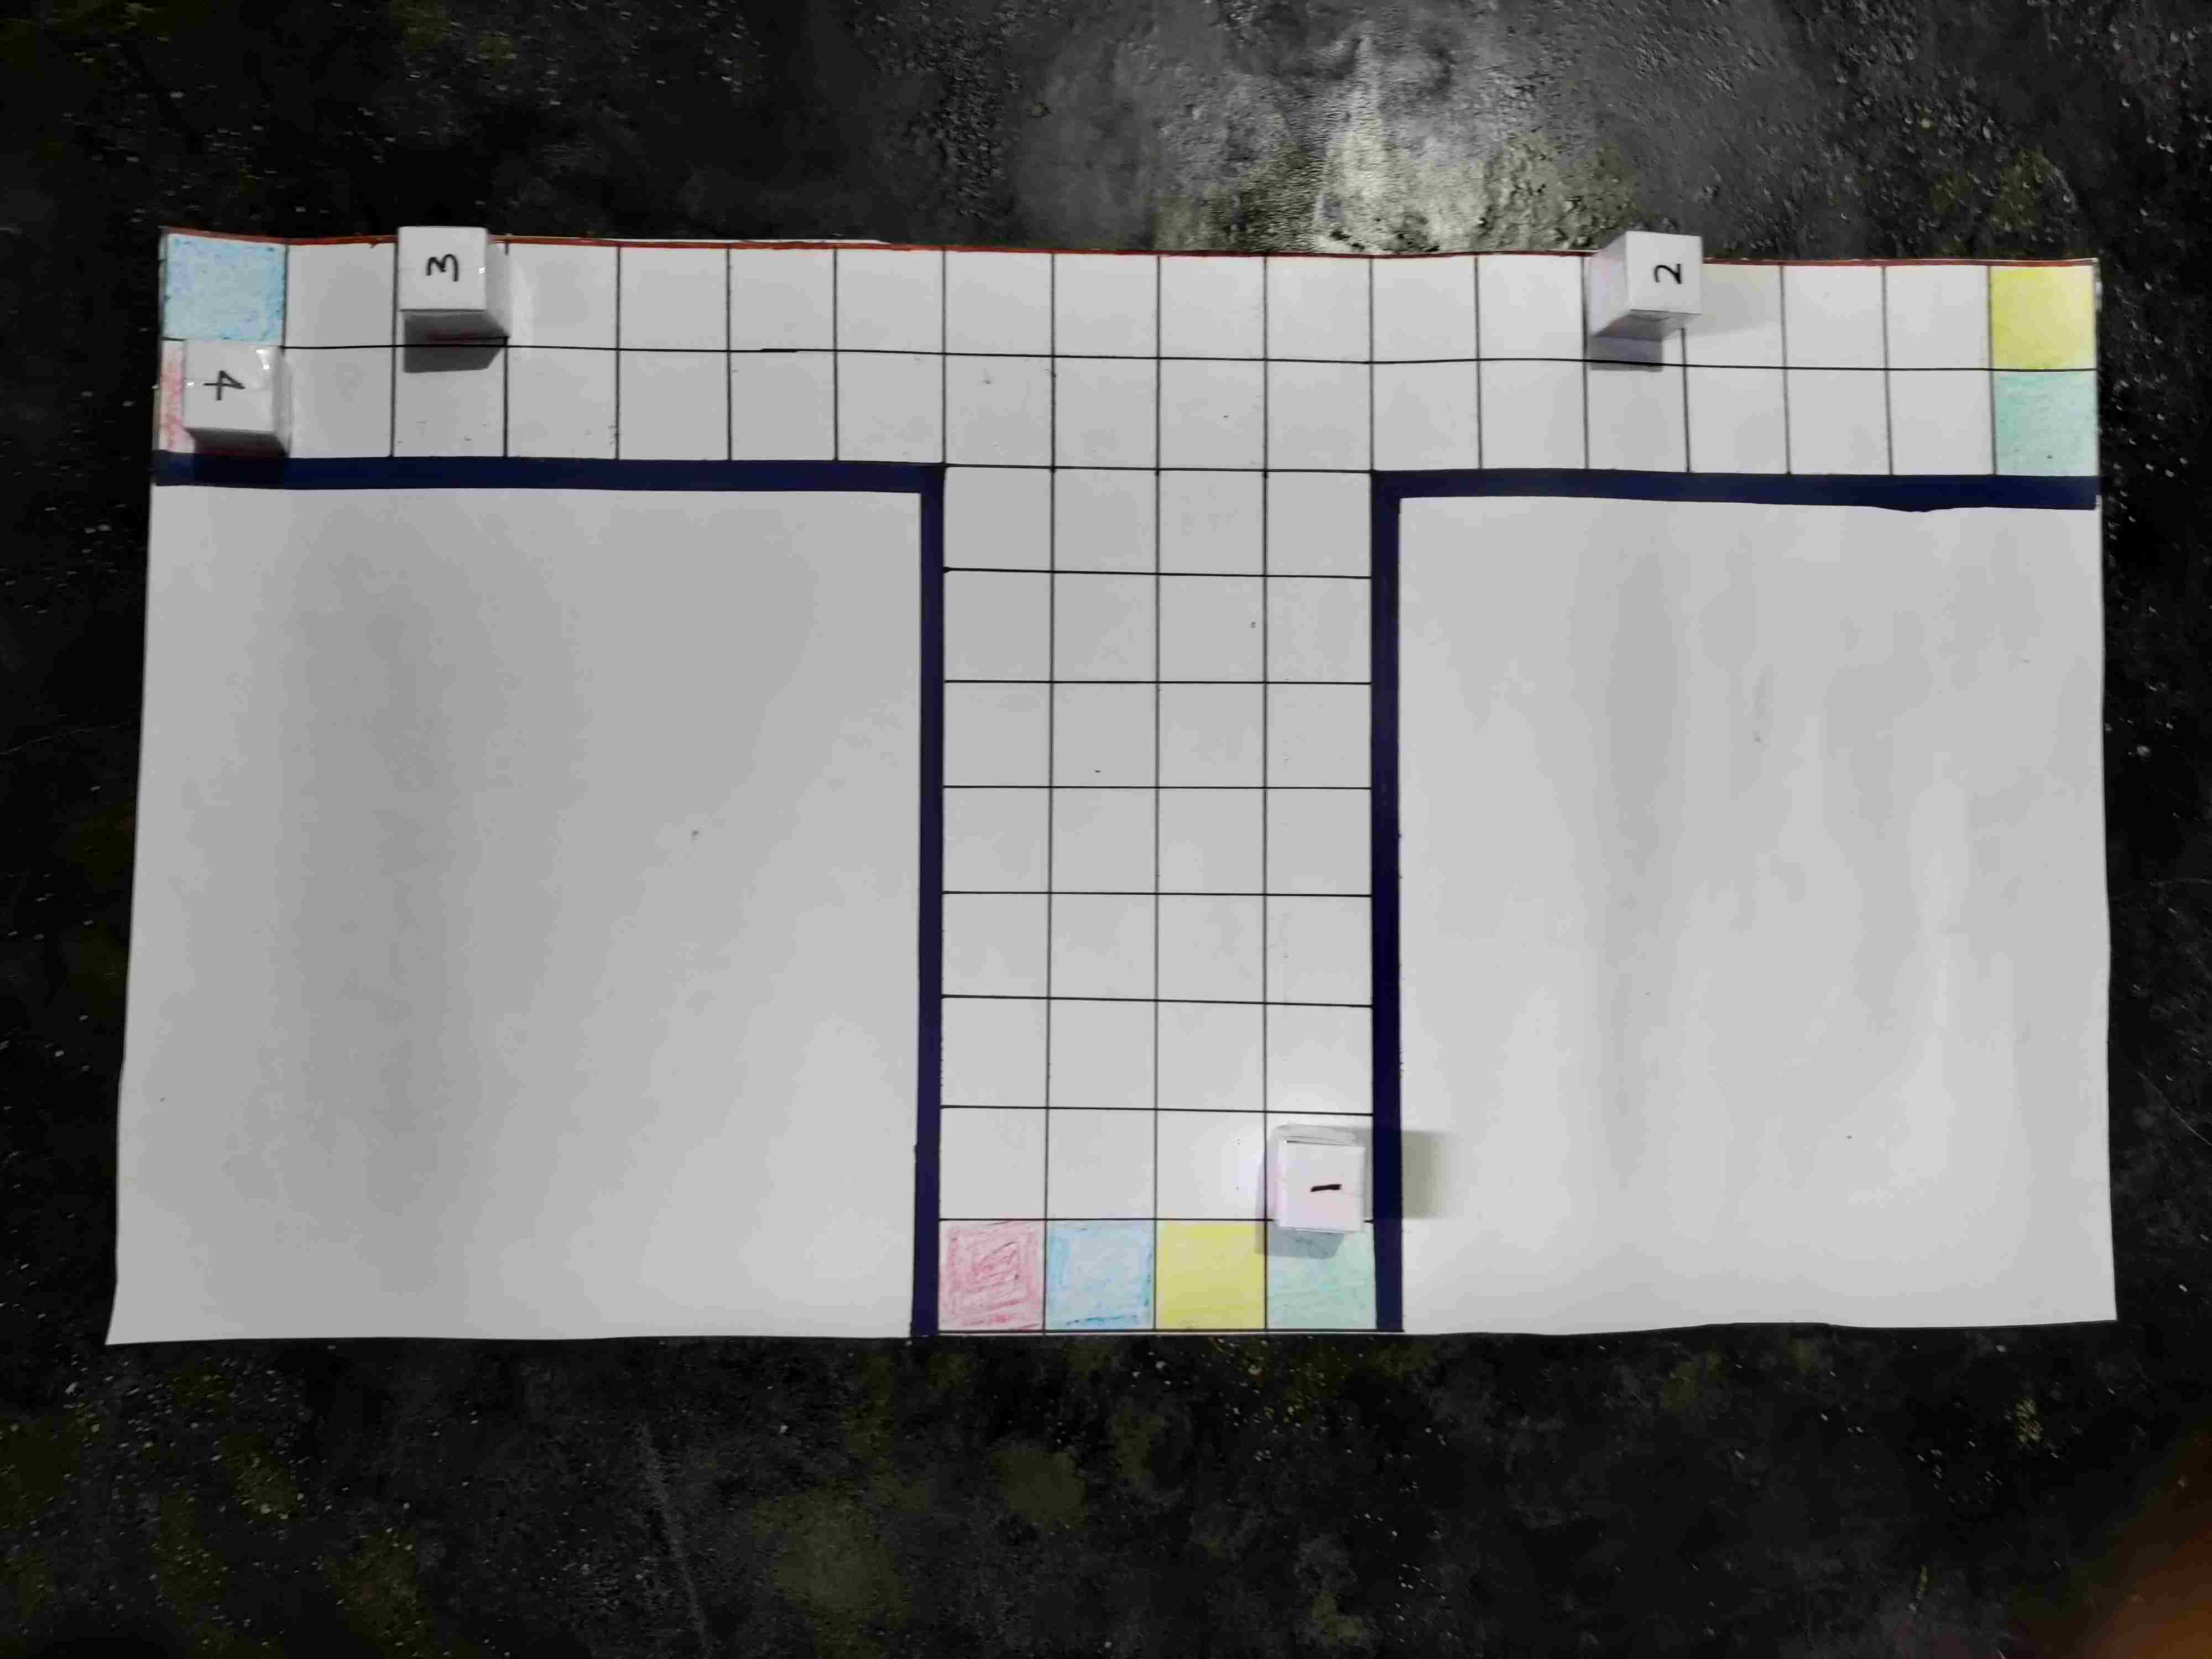arena: (82, 295, 1987, 1354)
bot: (939, 404, 1024, 486), (820, 1060, 911, 1136), (1167, 633, 1251, 711), (1059, 526, 1139, 601)
